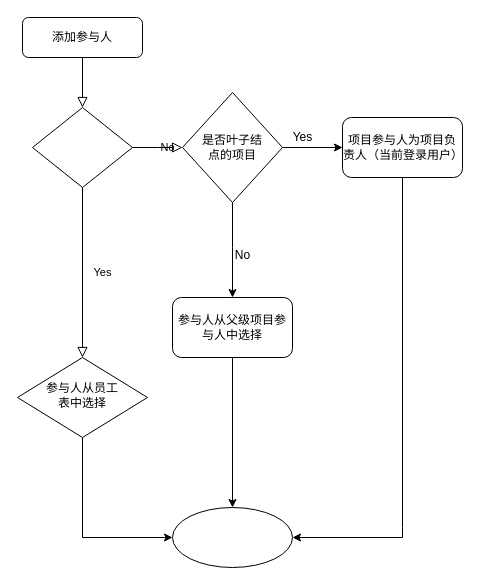
This 480x585 diagram has some shape labels left out. Here are the shapes that lost their labels. From the top down, the centre of each, then its label:
the point at 82,147: 是否主项目
the point at 232,537: 结束
